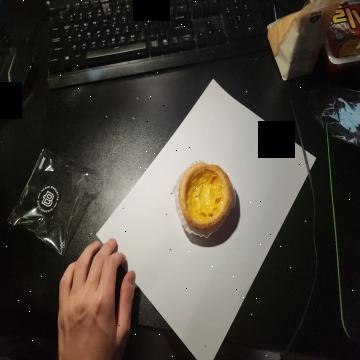EggTart: (177, 161, 233, 232)
